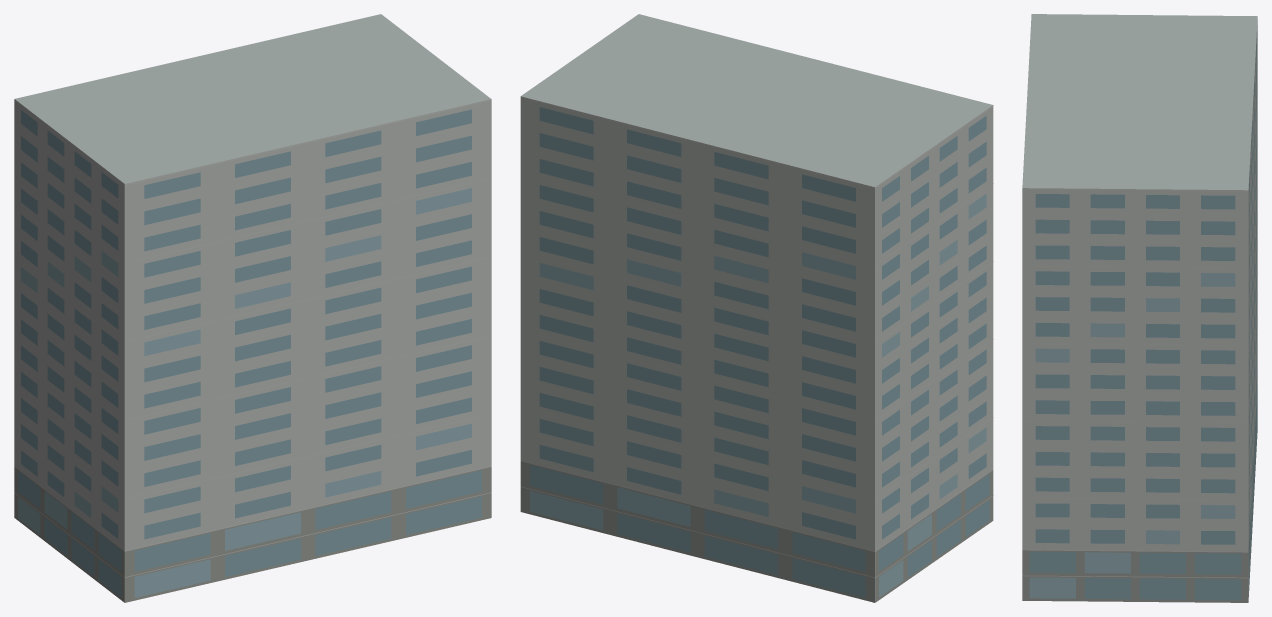
File: residential-7050fb3f-d826-4ecf-b341-68b30e8e4cb1.glb
3 renders of one model, left to right at view 1: azimuth 30°, elevation 25°; view 2: azimuth 150°, elevation 25°; view 3: azimuth 270°, elevation 25°, orthographic.
Visible parts, largest first — view 1: residential-7050fb3f-d826-4ecf-b341-68b30e8e4cb1.tmp; view 2: residential-7050fb3f-d826-4ecf-b341-68b30e8e4cb1.tmp; view 3: residential-7050fb3f-d826-4ecf-b341-68b30e8e4cb1.tmp.
Part boxes in pixels (left/top/right/bottom): residential-7050fb3f-d826-4ecf-b341-68b30e8e4cb1.tmp: left=14, top=14, right=491, bottom=602; residential-7050fb3f-d826-4ecf-b341-68b30e8e4cb1.tmp: left=520, top=14, right=993, bottom=602; residential-7050fb3f-d826-4ecf-b341-68b30e8e4cb1.tmp: left=1022, top=14, right=1257, bottom=602.
Bounding box in the file's own units: 53.12 × 58 × 30.
